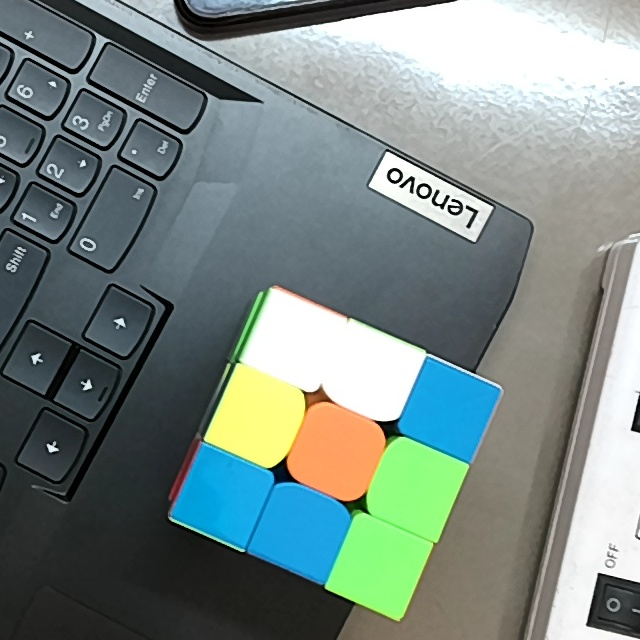tile: (308, 421, 367, 484), (266, 310, 323, 370), (383, 460, 444, 516), (350, 536, 407, 595), (421, 382, 479, 439), (196, 465, 253, 522), (345, 346, 399, 406), (232, 389, 287, 443), (274, 501, 328, 556)
